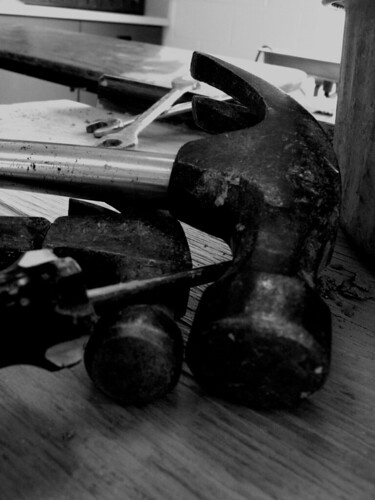hammer: (3, 49, 337, 405)
